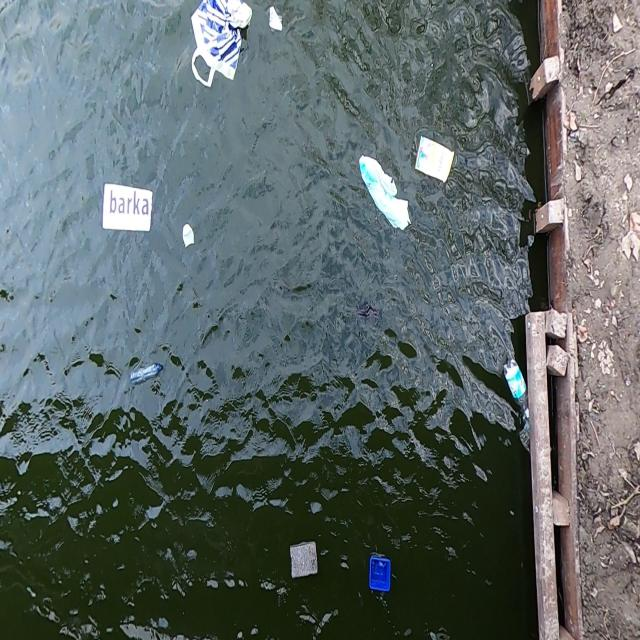Autre plastique: (412, 133, 457, 190), (363, 548, 394, 604)
Bouteille plastique: (128, 360, 164, 394)
Sac plastique: (183, 0, 255, 91), (352, 149, 414, 237)
